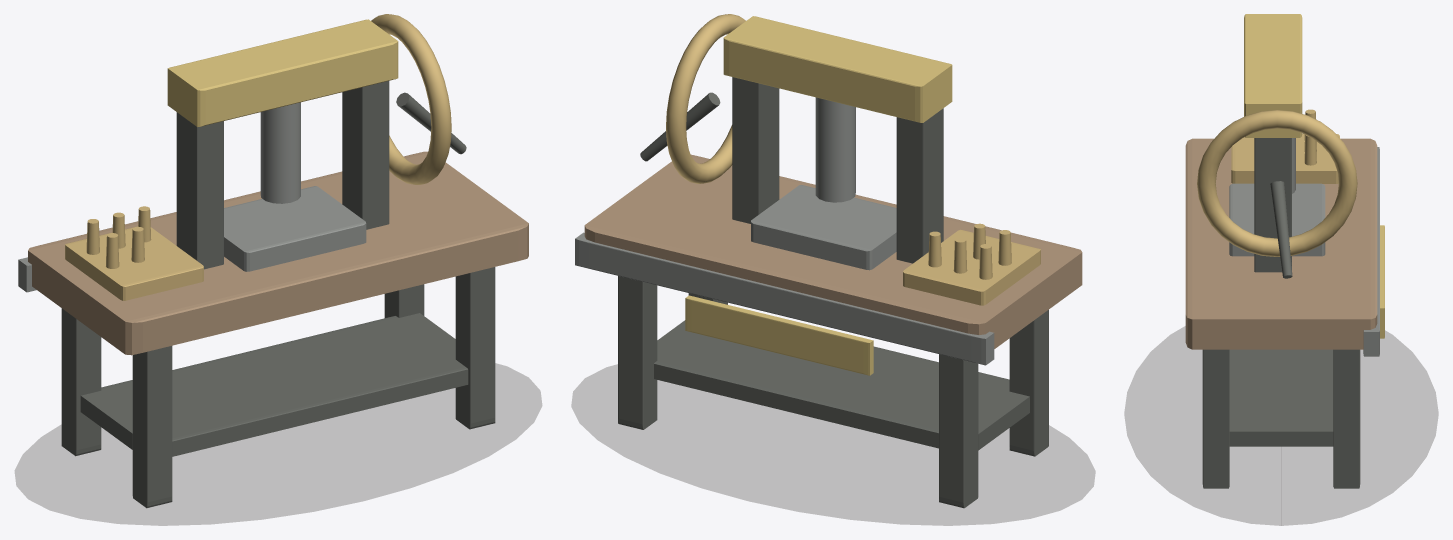
Rendered from craft_station_ammo.glb.
3 renders of one model, left to right at view 1: azimuth 30°, elevation 25°; view 2: azimuth 150°, elevation 25°; view 3: azimuth 270°, elevation 25°, orthographic. The views are drawn at different scales.
Parts seen in each view (by area): view 1: painted_contact_shadow, ammo_press_station_worktop, ammo_press_station_lower_shelf, press_top_crosshead, press_die_base, press_left_column, press_right_column, ammo_press_station_leg_-1_1, ammo_press_station_leg_1_1, cartridge_sorting_tray, ammo_press_station_leg_-1_-1, press_flywheel (+3 smaller); view 2: painted_contact_shadow, ammo_press_station_worktop, ammo_press_station_lower_shelf, press_top_crosshead, ammo_press_station_front_edge, press_die_base, ammo_press_station_type_plate, press_left_column, press_right_column, ammo_press_station_leg_-1_-1, ammo_press_station_leg_1_-1, cartridge_sorting_tray (+4 smaller); view 3: painted_contact_shadow, ammo_press_station_worktop, ammo_press_station_lower_shelf, press_flywheel, press_top_crosshead, ammo_press_station_leg_1_-1, ammo_press_station_leg_1_1, press_right_column, press_die_base, cartridge_sorting_tray, press_handle, ammo_press_station_front_edge (+1 smaller).
Part boxes in pixels (left/top/right/bottom): painted_contact_shadow: left=15, top=363, right=541, bottom=525; ammo_press_station_worktop: left=28, top=151, right=528, bottom=355; ammo_press_station_lower_shelf: left=80, top=313, right=468, bottom=456; press_top_crosshead: left=167, top=19, right=398, bottom=126; press_die_base: left=224, top=186, right=366, bottom=271; press_left_column: left=176, top=112, right=223, bottom=269; press_right_column: left=342, top=81, right=389, bottom=229; ammo_press_station_leg_-1_1: left=132, top=346, right=172, bottom=508; ammo_press_station_leg_1_1: left=455, top=267, right=495, bottom=429; cartridge_sorting_tray: left=65, top=226, right=203, bottom=300; ammo_press_station_leg_-1_-1: left=61, top=308, right=101, bottom=456; press_flywheel: left=371, top=14, right=451, bottom=184; painted_contact_shadow: left=571, top=364, right=1095, bottom=525; ammo_press_station_worktop: left=584, top=154, right=1082, bottom=348; ammo_press_station_lower_shelf: left=654, top=320, right=1029, bottom=450; press_top_crosshead: left=723, top=16, right=952, bottom=122; ammo_press_station_front_edge: left=575, top=232, right=994, bottom=365; press_die_base: left=751, top=185, right=896, bottom=270; ammo_press_station_type_plate: left=685, top=295, right=873, bottom=375; press_left_column: left=896, top=108, right=943, bottom=263; press_right_column: left=732, top=77, right=779, bottom=223; ammo_press_station_leg_-1_-1: left=939, top=354, right=978, bottom=508; ammo_press_station_leg_1_-1: left=618, top=276, right=657, bottom=429; cartridge_sorting_tray: left=903, top=229, right=1040, bottom=305; painted_contact_shadow: left=1124, top=326, right=1438, bottom=525; ammo_press_station_worktop: left=1185, top=138, right=1377, bottom=349; ammo_press_station_lower_shelf: left=1229, top=349, right=1333, bottom=446; press_flywheel: left=1197, top=110, right=1357, bottom=256; press_top_crosshead: left=1244, top=14, right=1302, bottom=137; ammo_press_station_leg_1_-1: left=1333, top=349, right=1360, bottom=488; ammo_press_station_leg_1_1: left=1202, top=349, right=1229, bottom=488; press_right_column: left=1254, top=138, right=1291, bottom=272; press_die_base: left=1229, top=183, right=1325, bottom=256; cartridge_sorting_tray: left=1231, top=134, right=1339, bottom=183; press_handle: left=1270, top=181, right=1292, bottom=278; ammo_press_station_front_edge: left=1363, top=147, right=1379, bottom=356.
Bounding box in the file's own units: 2.54 × 1.89 × 1.51.
